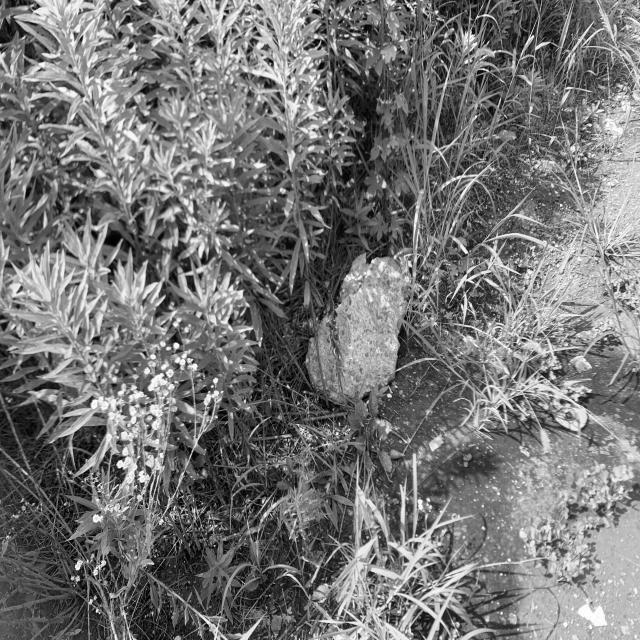Stone: (306, 254, 408, 403)
